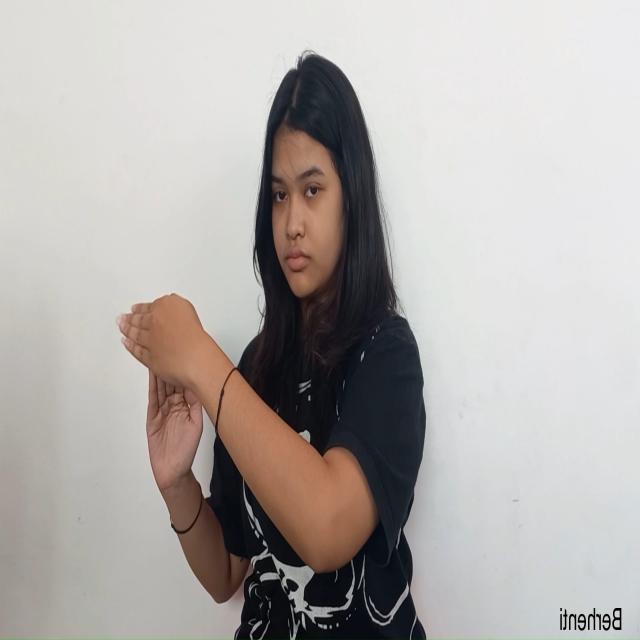Berhenti -BISINDO-: (114, 287, 209, 526)
